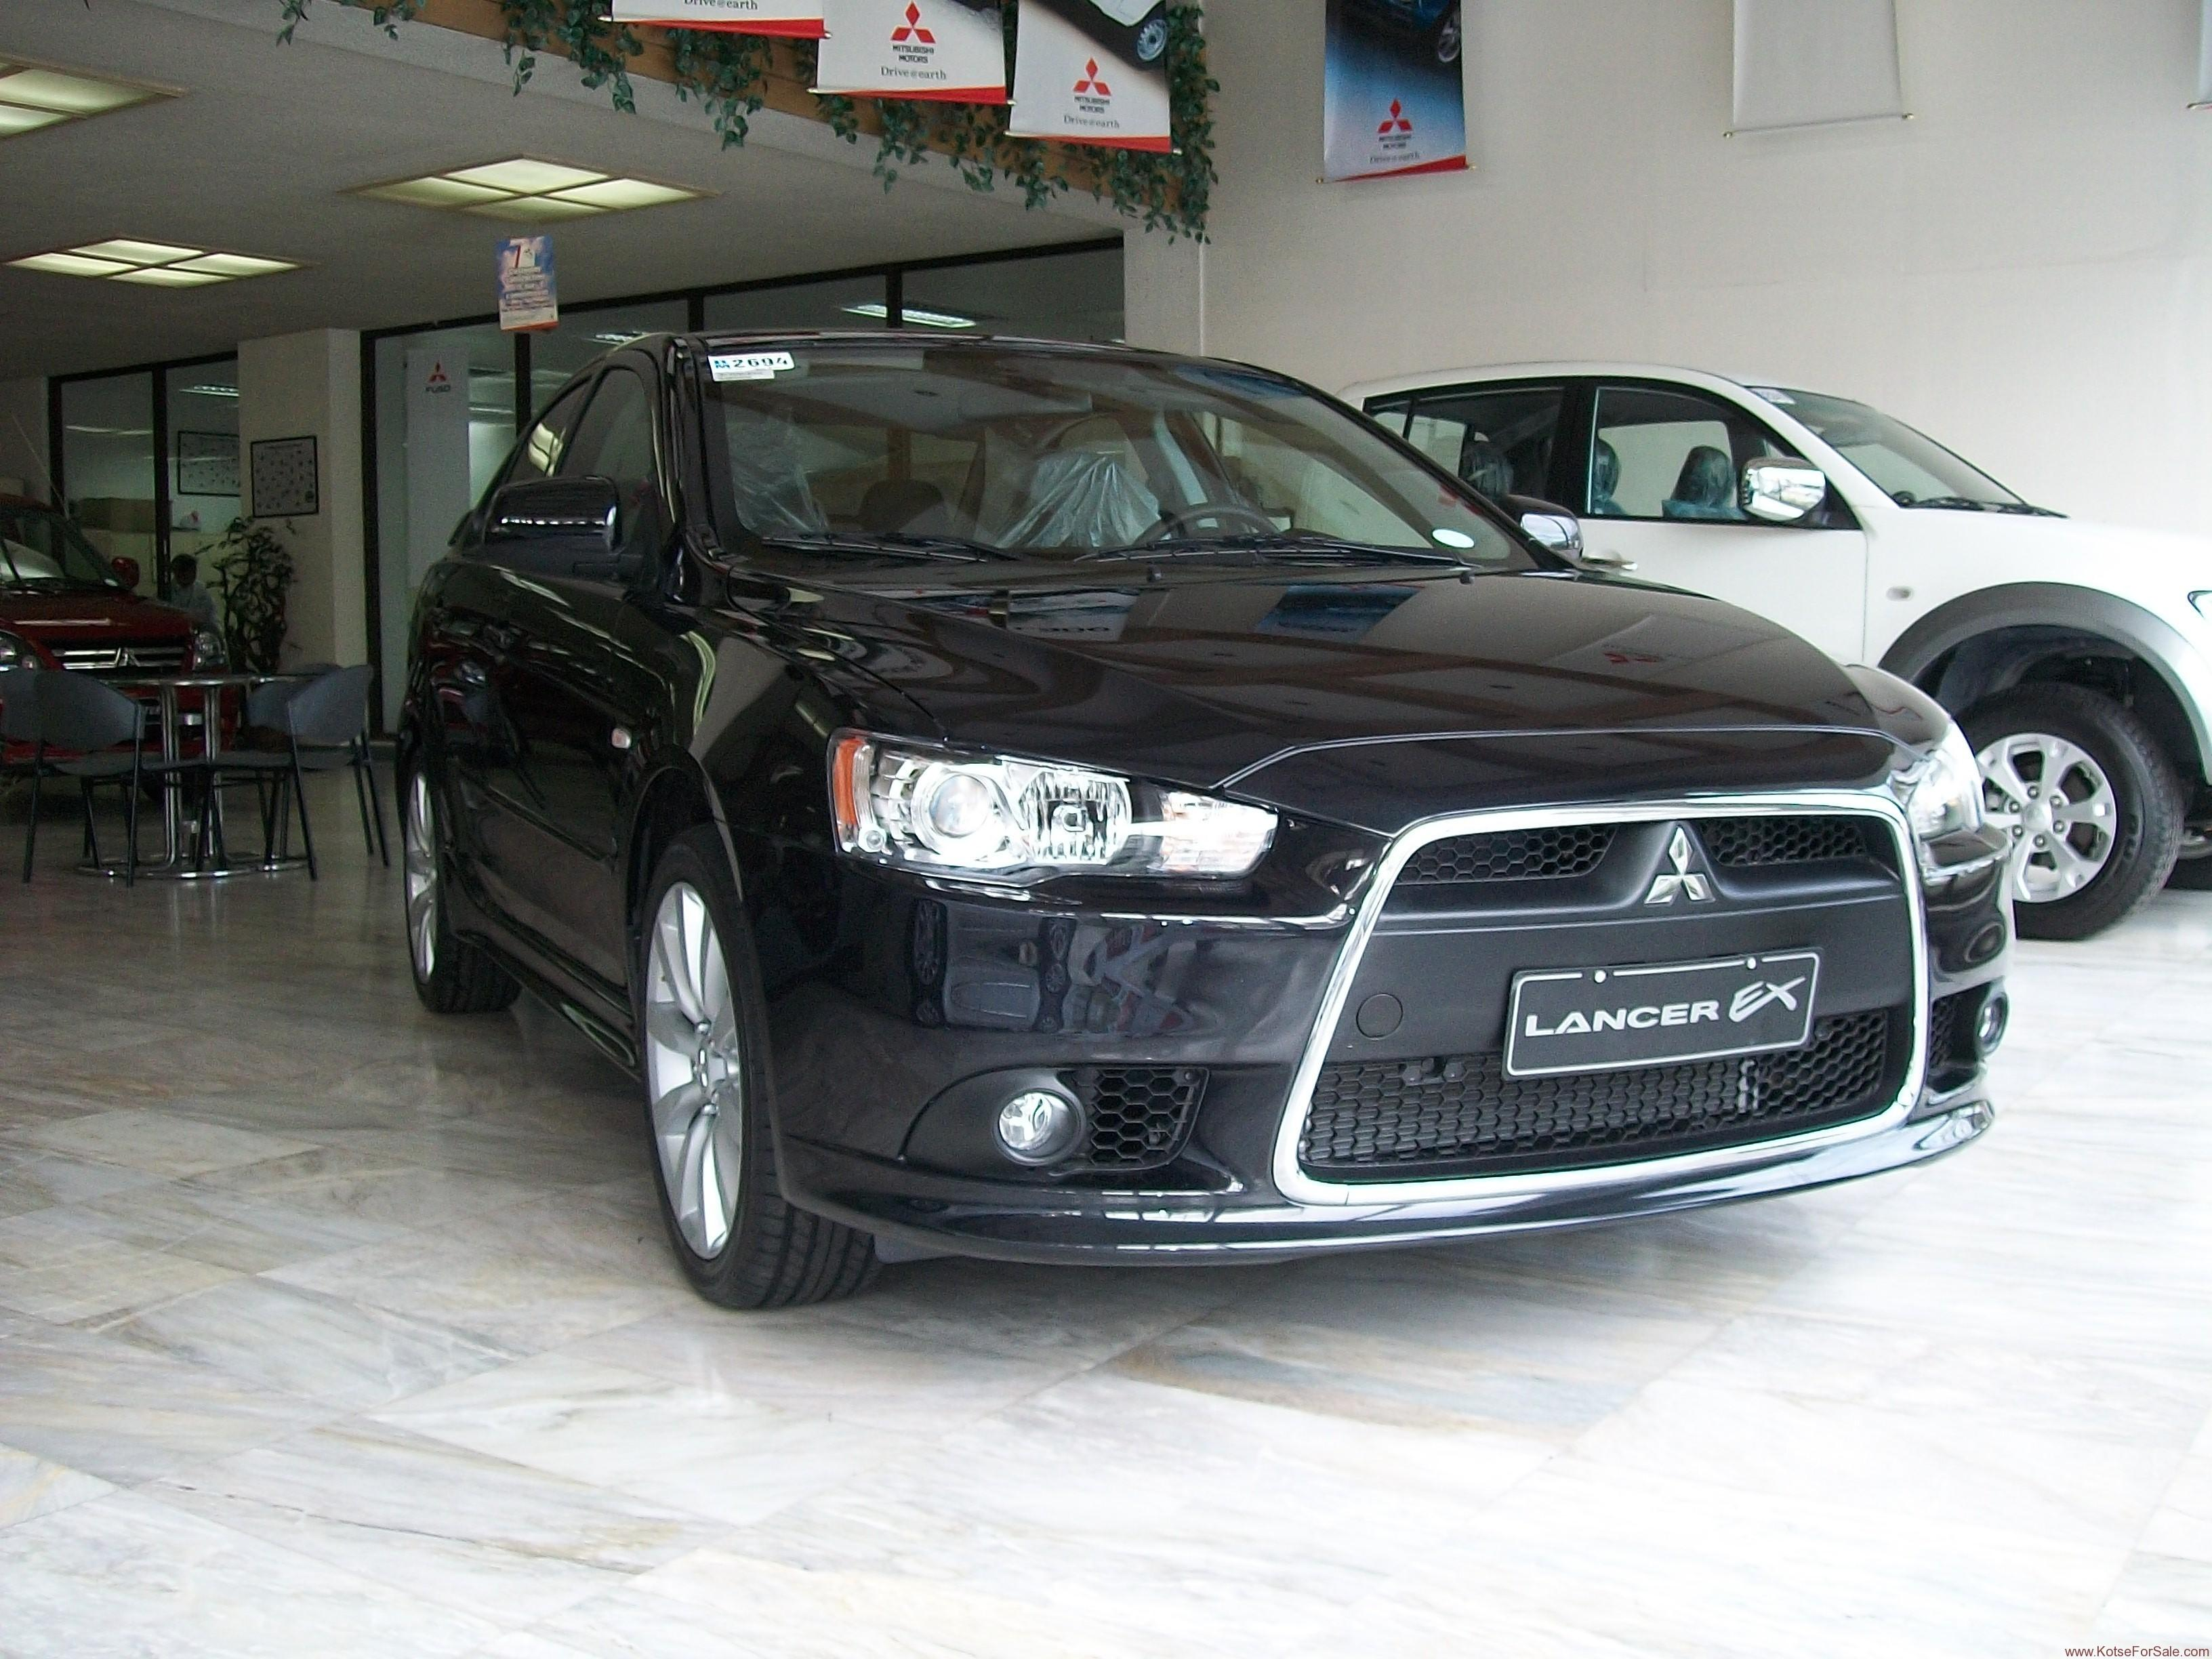car: (381, 305, 2029, 1272)
